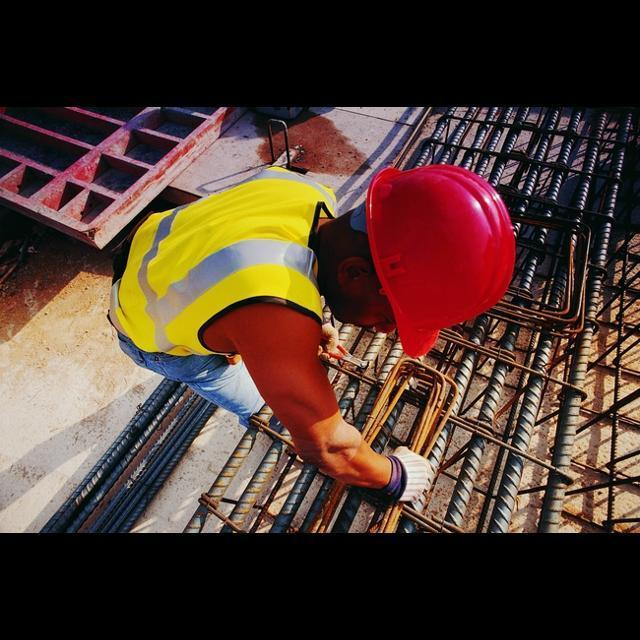Capacete: (365, 165, 514, 356)
Colete: (109, 167, 336, 354)
